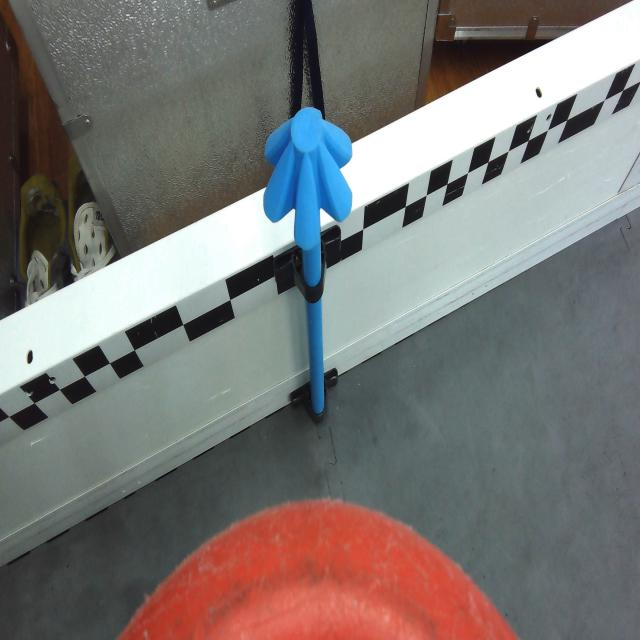zblue-Stake-Head: (264, 105, 352, 252)
